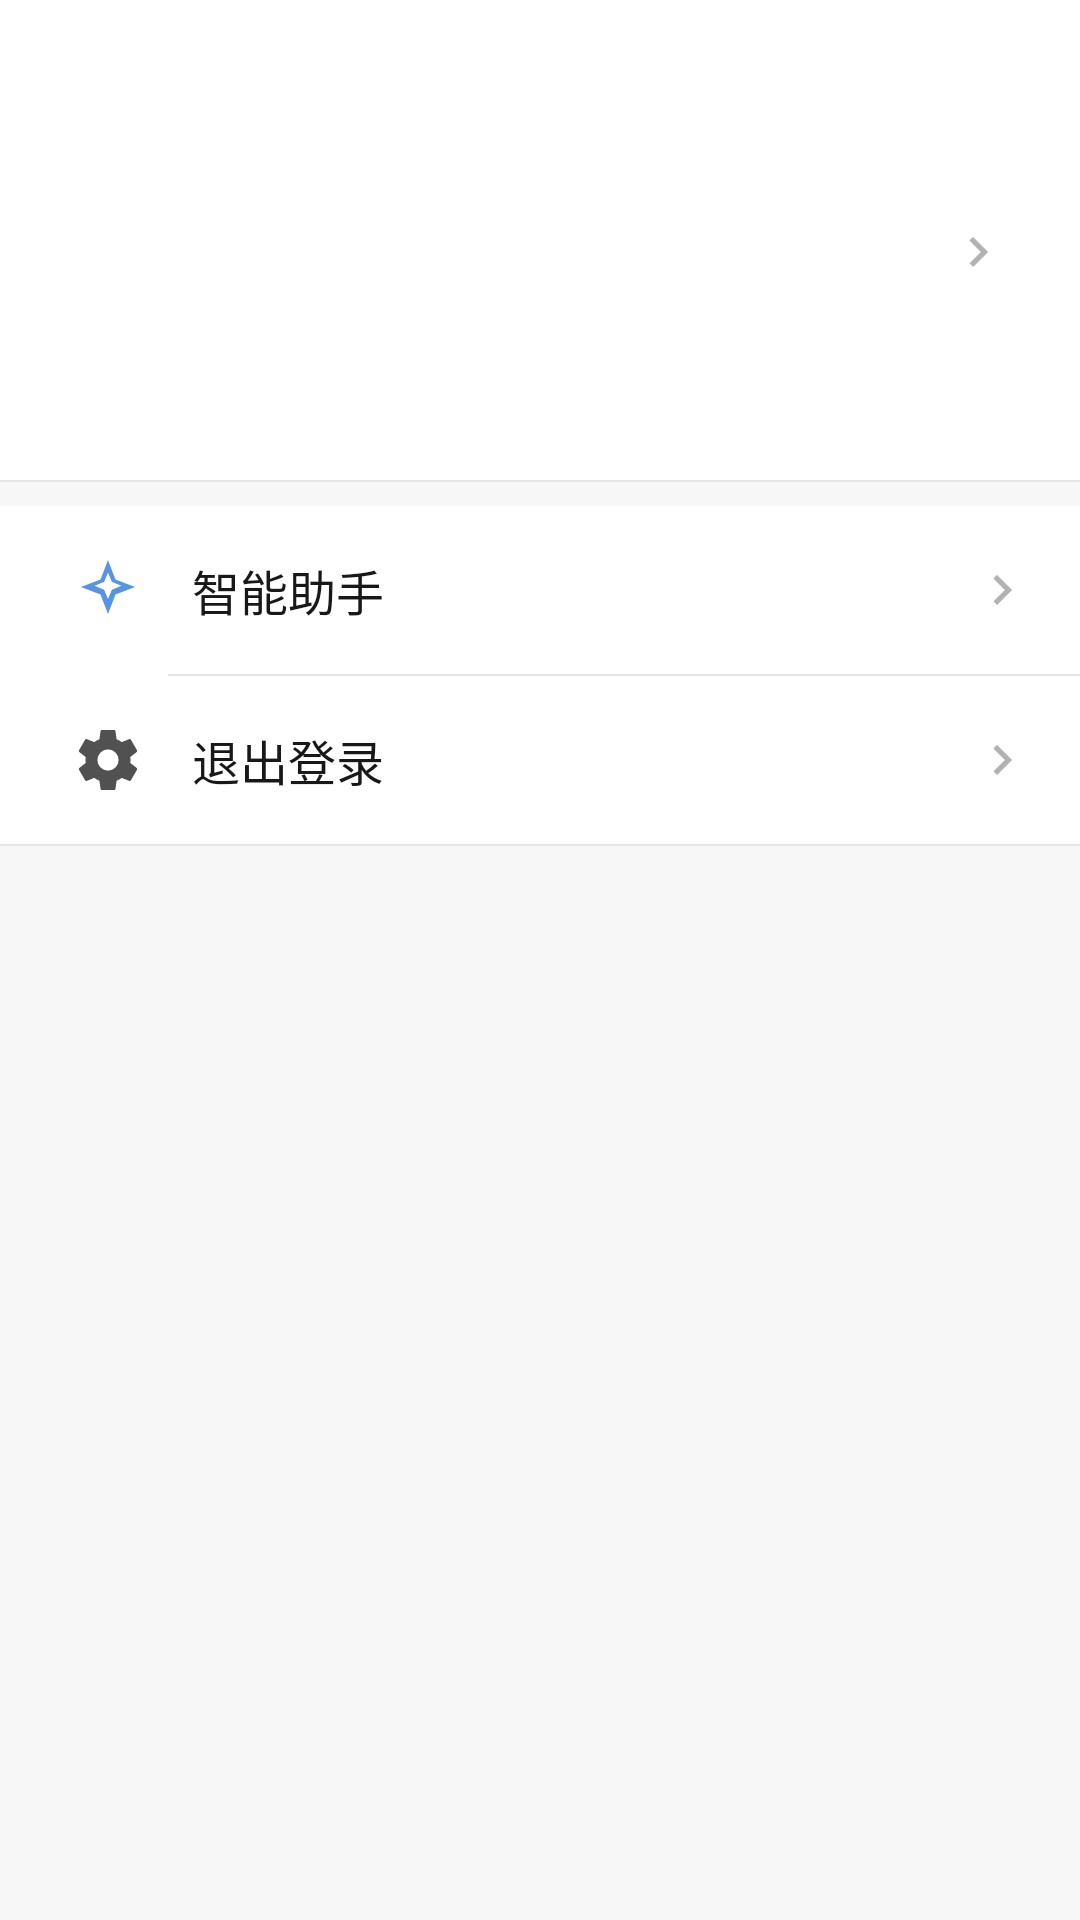

Icons on this 1080px×1920px Android screen, each with the point to tap as (x=x, y=y):
chevron right: (x=978, y=252), (x=1002, y=590), (x=1002, y=760)
me ai: (x=108, y=587)
me settings: (x=108, y=760)
